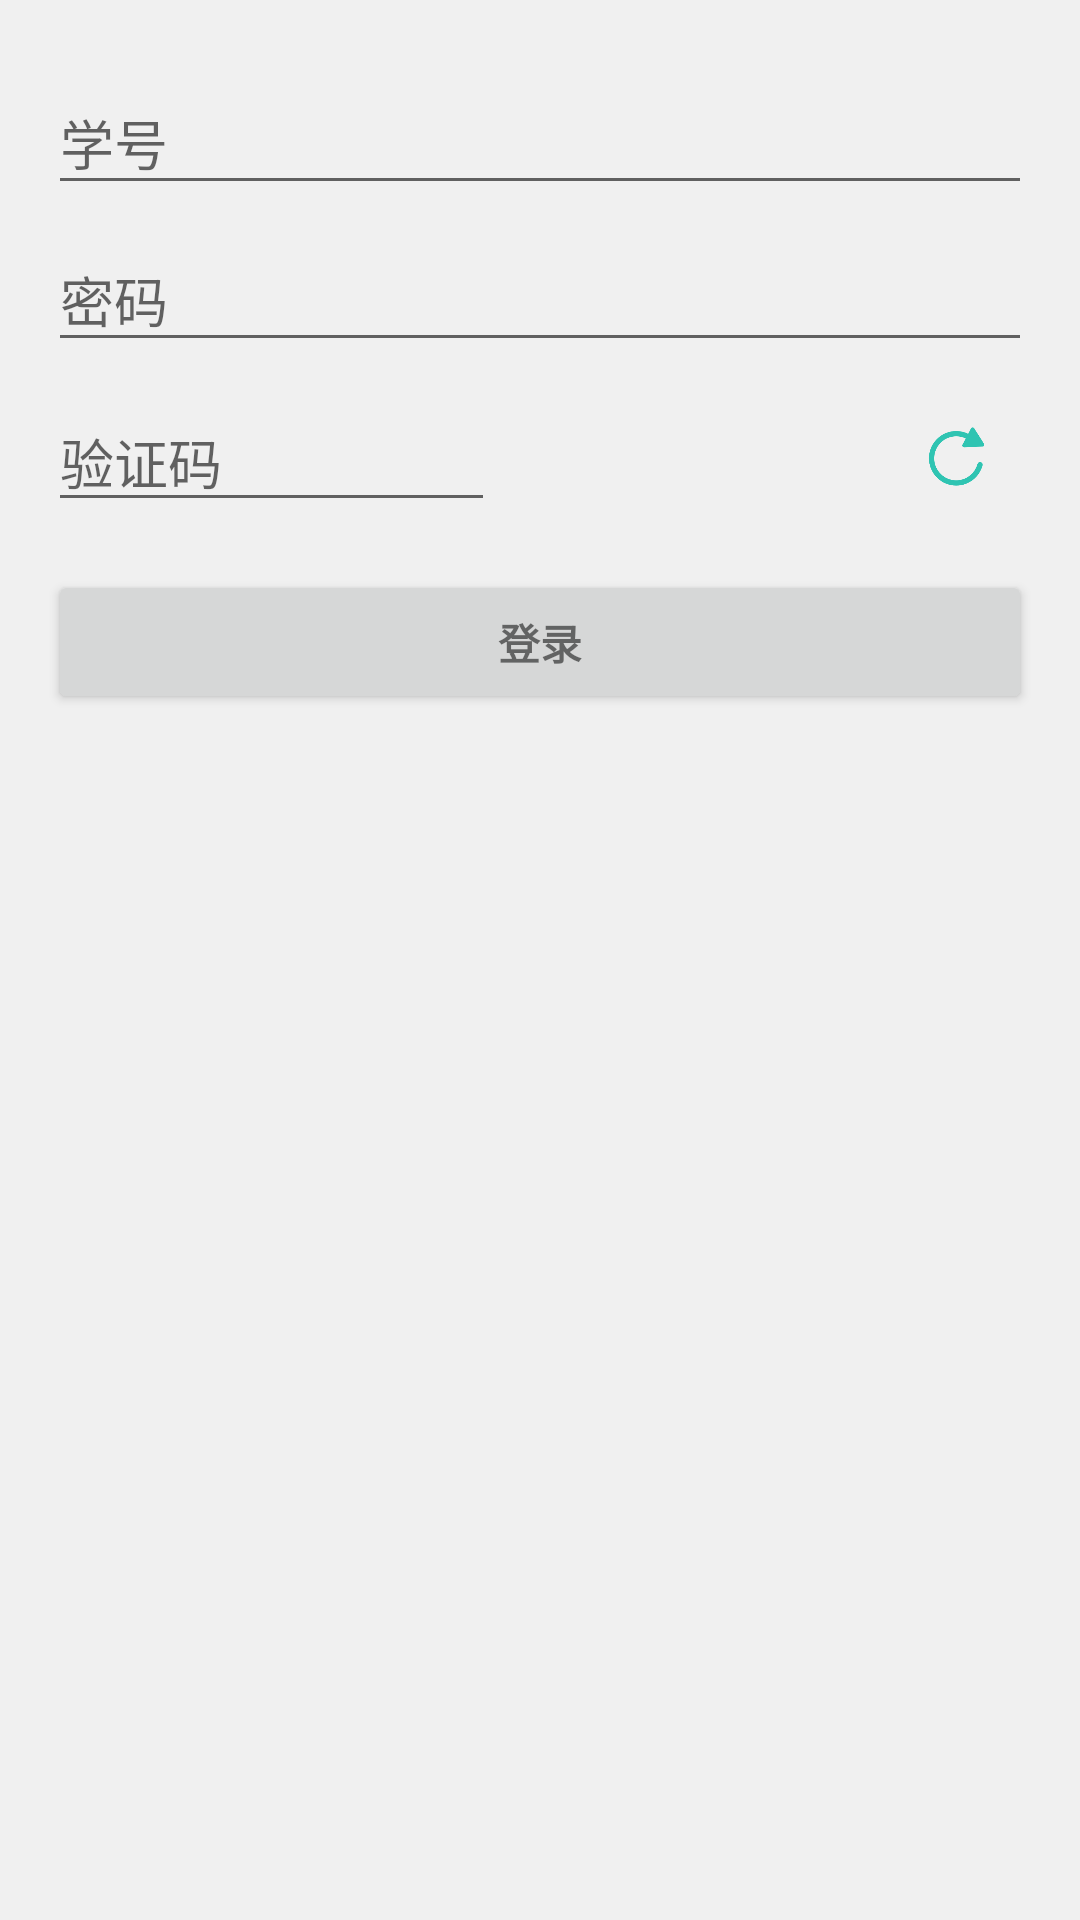

Screen size 1080 x 1920. Icon name, then its center in pixels as (x=x, y=y):
refresh: (x=956, y=456)
